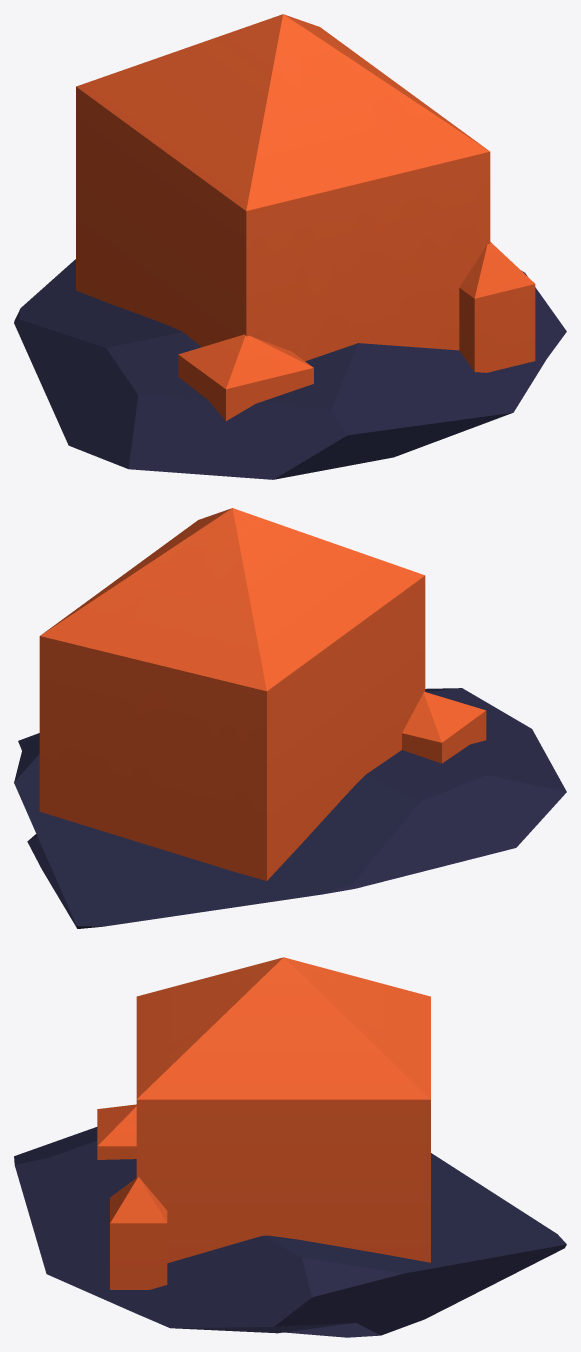
3 views of the same model, one above another, from view 1: azimuth 30°, elevation 25°; view 2: azimuth 150°, elevation 25°; view 3: azimuth 270°, elevation 25° (orthographic). The views are drawn at different scales.
Visible parts, largest first — view 1: Nó 10; view 2: Nó 10; view 3: Nó 10.
Part boxes in pixels (box(x1,y1,x2,y2)): Nó 10: box(14, 14, 566, 479); Nó 10: box(14, 508, 566, 928); Nó 10: box(14, 957, 566, 1337).
Size of the model in its own units: 162 by 114 by 181.
2 materials, 1 textured.
